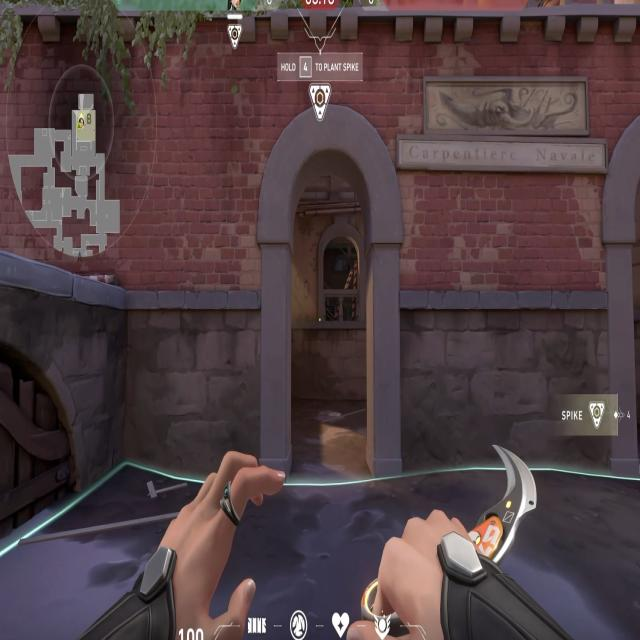B_Boathouse: (237, 78, 421, 498)
